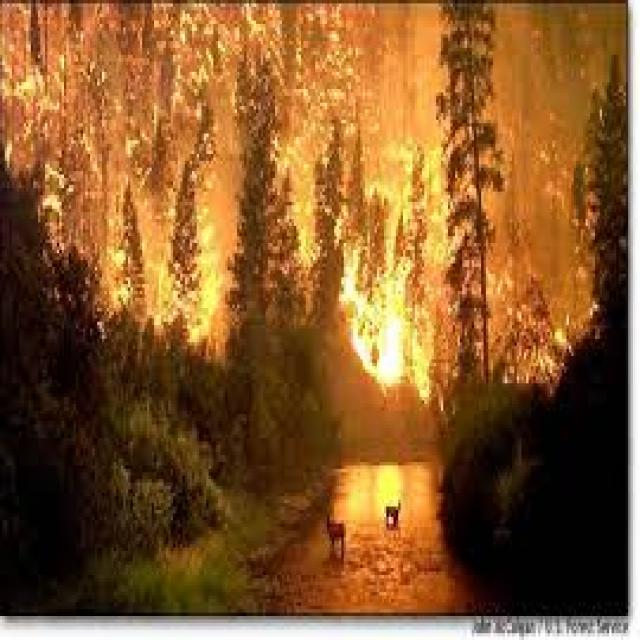Fire: (370, 304, 404, 392)
